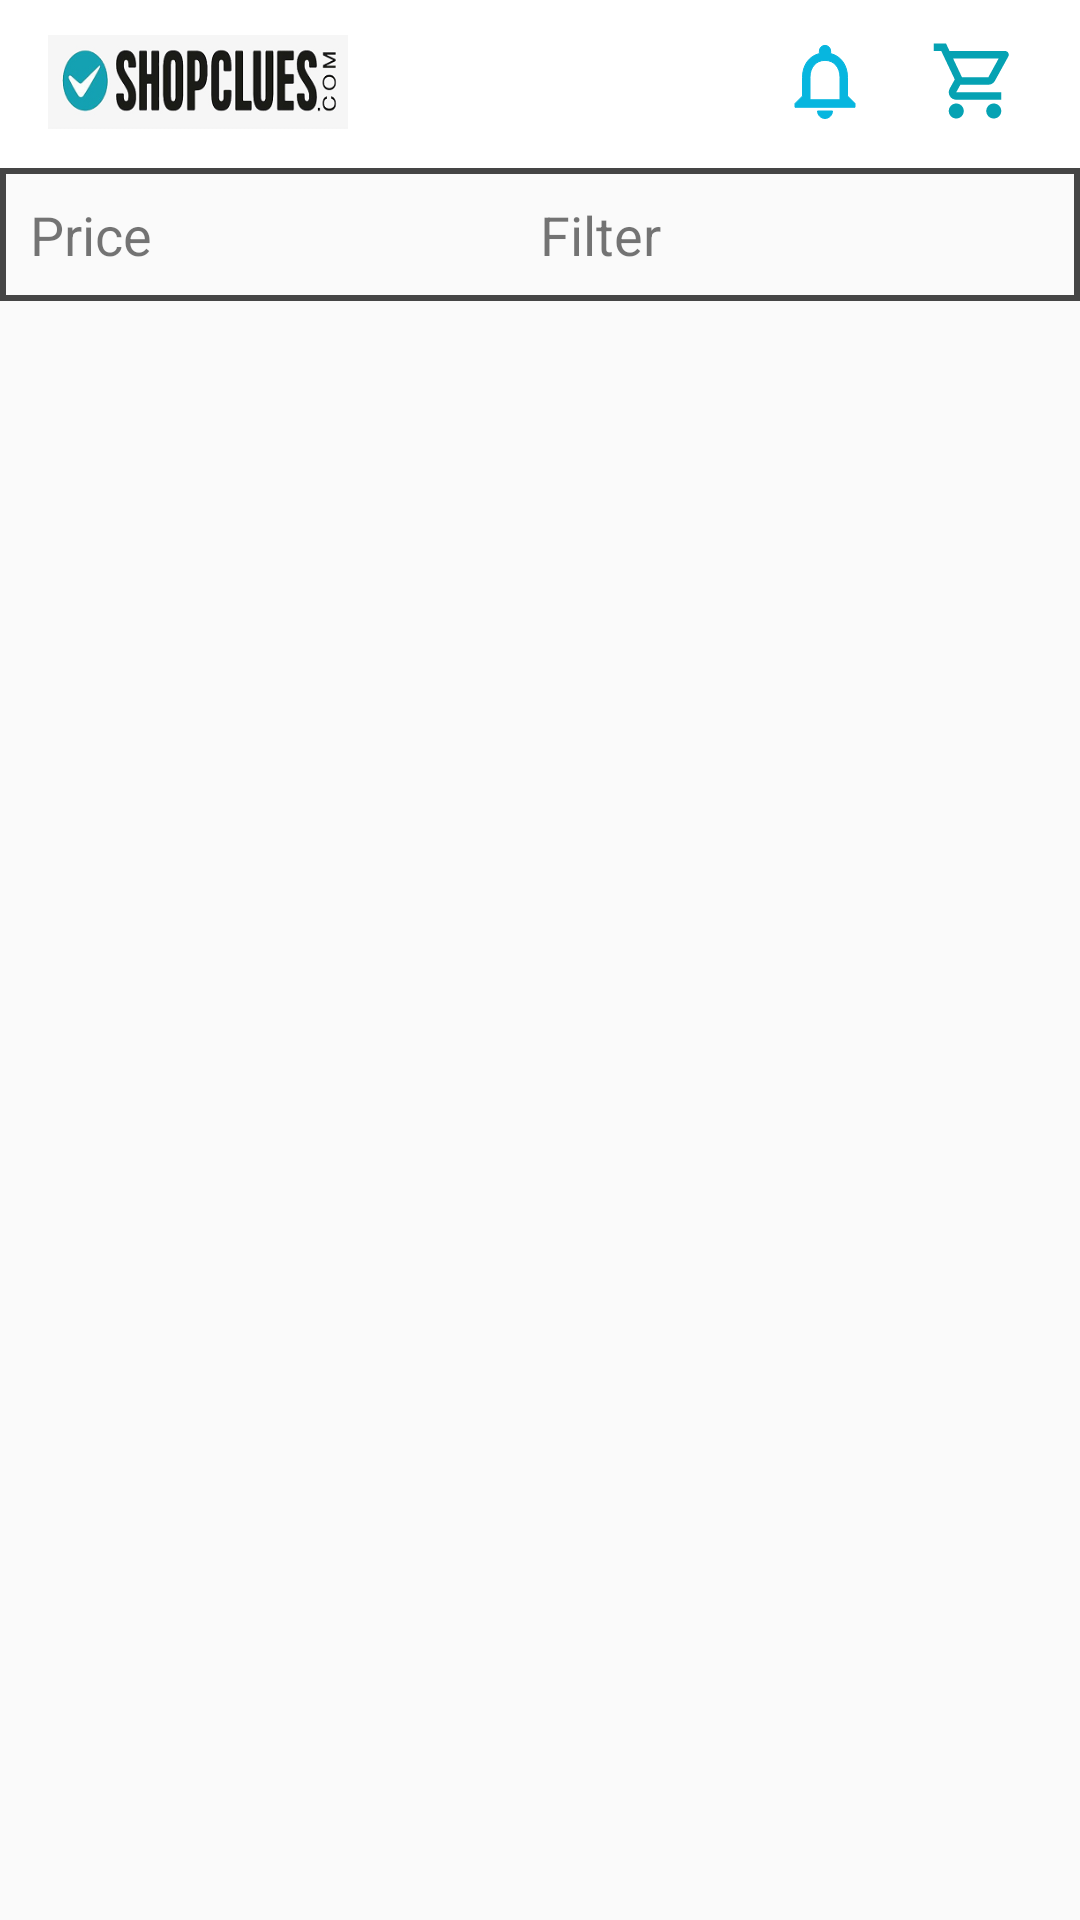

Icon bounding boxes for this 1080x1920 phone screenshot, format bbox=[x1, y1, x2, y2]:
cart: bbox=[933, 43, 1009, 119]
notification: bbox=[794, 45, 856, 119]
